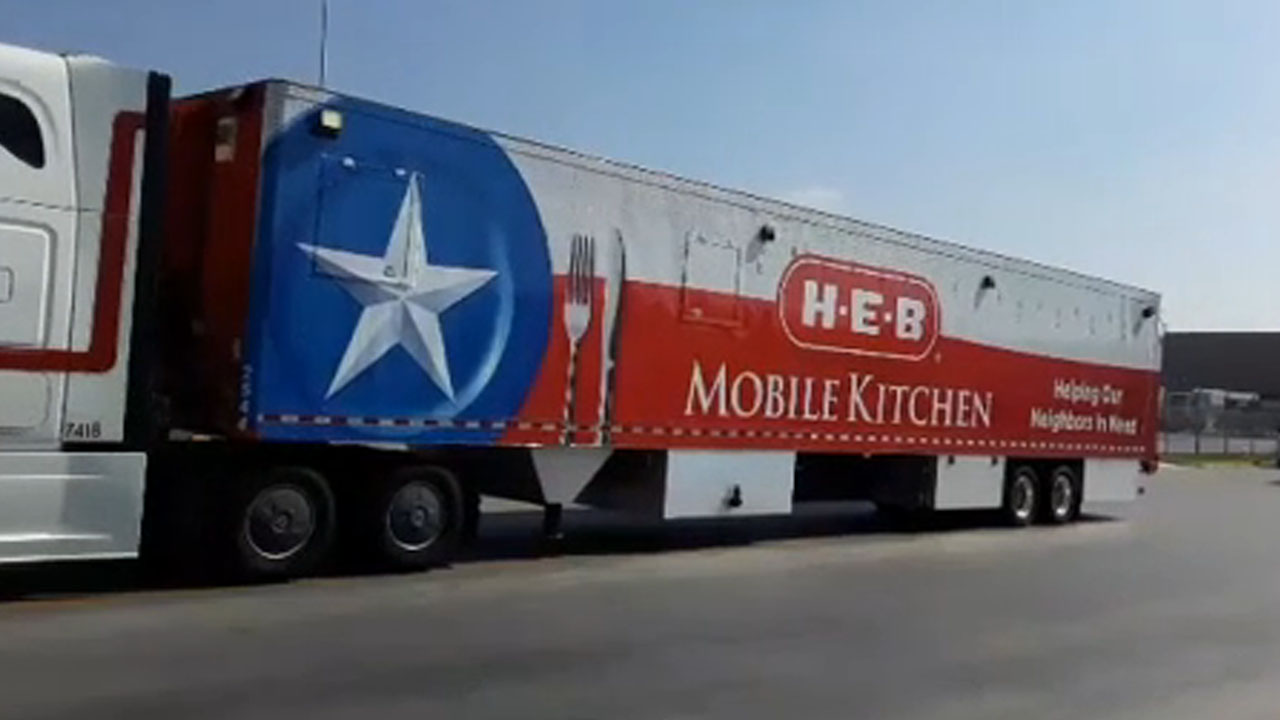truck: (1, 44, 1163, 592)
